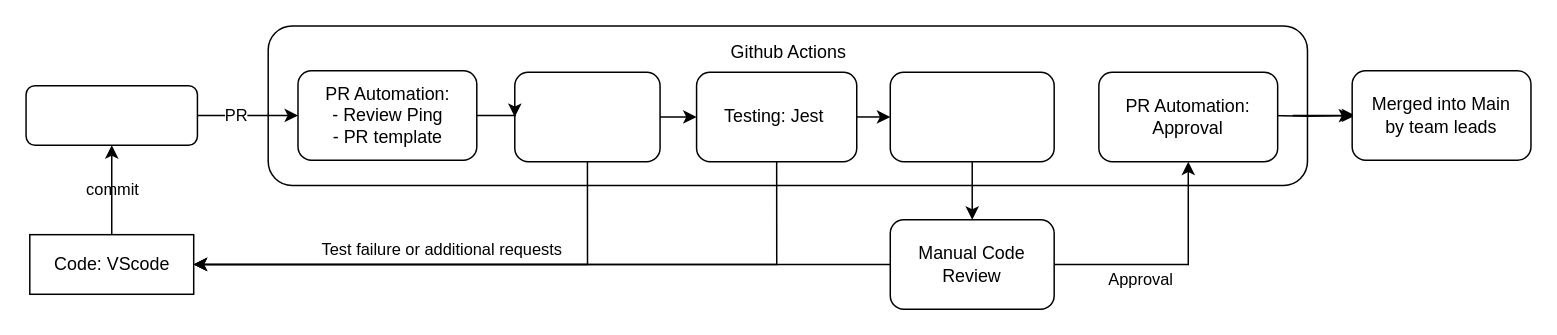
Some shapes in this 1557 by 335 pixel diagram are drawn without their labels. Each missing label, with the box of its shape:
Documentation: JSDoc: (889, 71, 1054, 162)
Github branch: (25, 84, 197, 145)
Linting: esLint: (513, 71, 660, 162)
